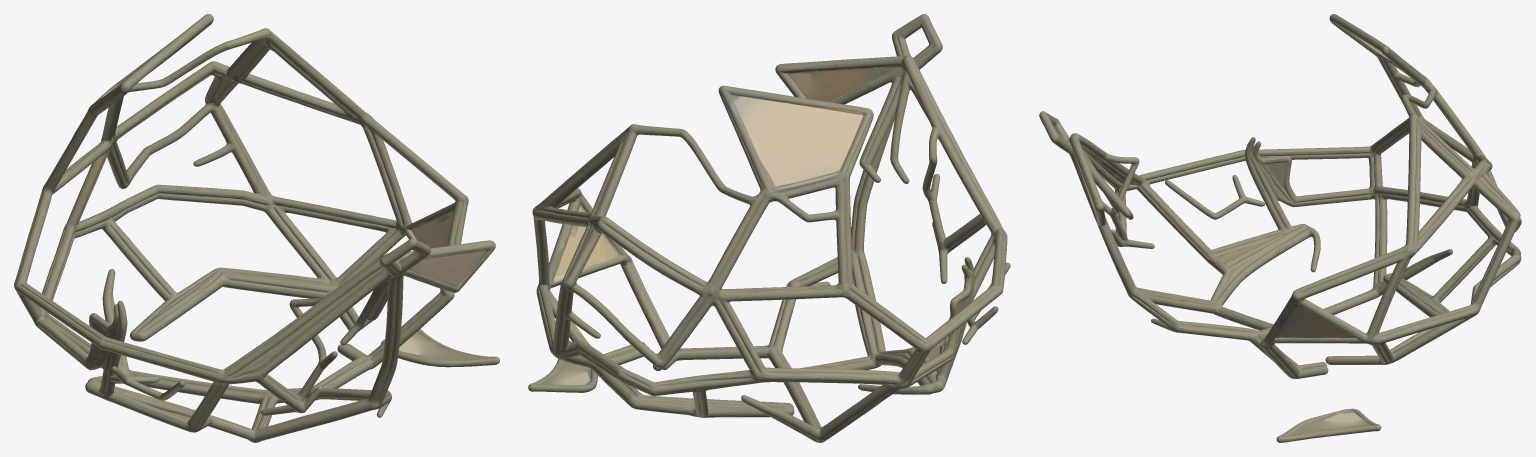
3 views of the same model, side by side, from view 1: azimuth 30°, elevation 25°; view 2: azimuth 150°, elevation 25°; view 3: azimuth 270°, elevation 25° (orthographic). The views are drawn at different scales.
Visible parts, largest first — view 1: texture_pbr_v128; view 2: texture_pbr_v128; view 3: texture_pbr_v128.
Boxes of the visible parts, x1,y1,x2,y2 form: texture_pbr_v128: [14, 14, 499, 442]; texture_pbr_v128: [528, 14, 1010, 442]; texture_pbr_v128: [1039, 14, 1521, 442].
Size of the model in its own units: 0.9459 by 0.764 by 1.09.
1 material, 1 textured.
